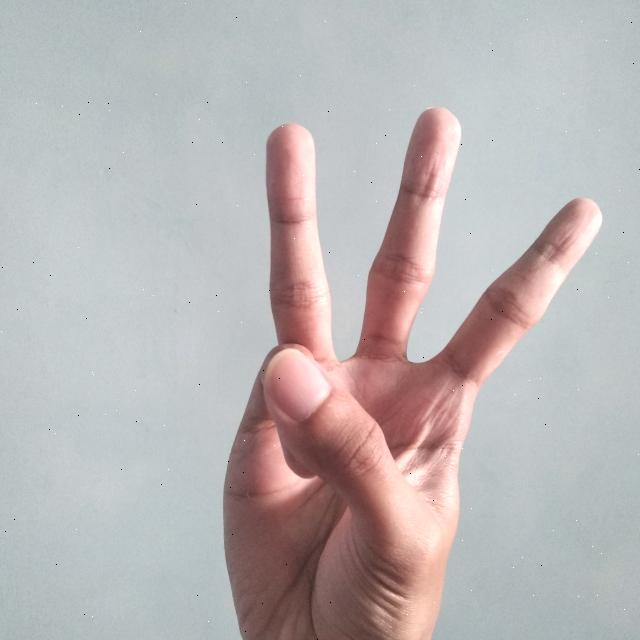W: (211, 95, 607, 640)
